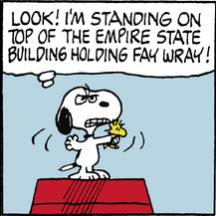snoopy: (54, 84, 122, 180)
